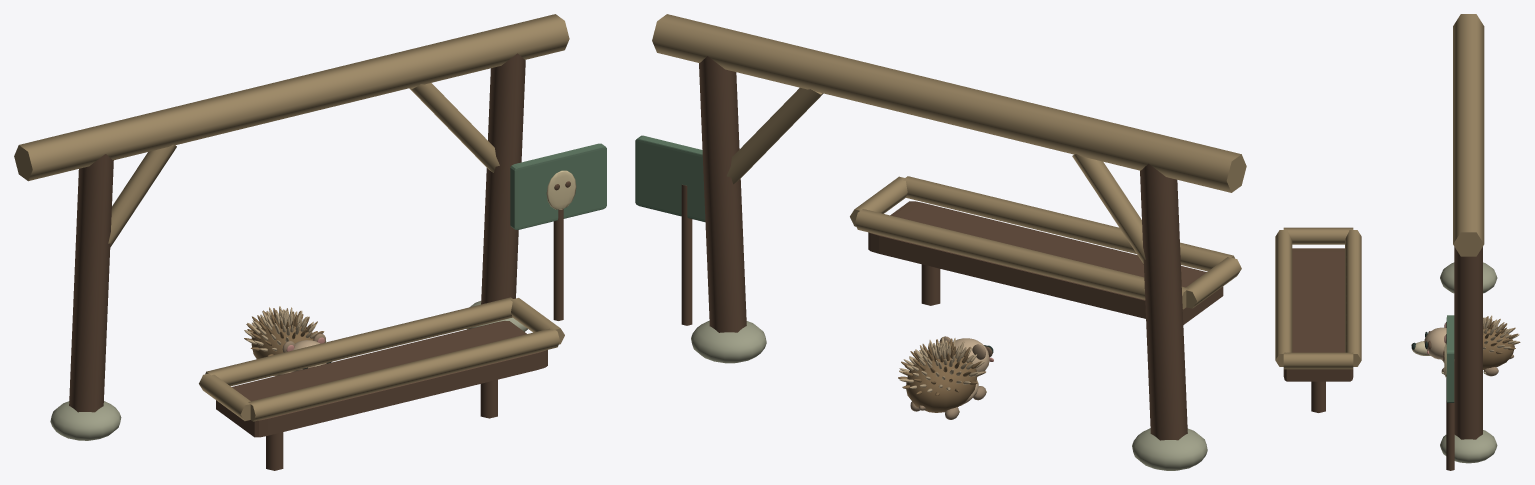
File: farm-props.glb
3 renders of one model, left to right at view 1: azimuth 30°, elevation 25°; view 2: azimuth 150°, elevation 25°; view 3: azimuth 270°, elevation 25°, orthographic. The views are drawn at different scales.
Visible parts, largest first — view 1: OwlFeedingPerch-painted-coat, HedgehogBody-painted-coat; view 2: OwlFeedingPerch-painted-coat, HedgehogBody-painted-coat, HedgehogHead-painted-coat; view 3: OwlFeedingPerch-painted-coat, HedgehogBody-painted-coat, HedgehogHead-painted-coat.
Boxes of the visible parts, bbox=[...] form: OwlFeedingPerch-painted-coat: bbox=[14, 14, 606, 470]; HedgehogBody-painted-coat: bbox=[244, 306, 326, 376]; OwlFeedingPerch-painted-coat: bbox=[635, 14, 1246, 470]; HedgehogBody-painted-coat: bbox=[898, 337, 985, 412]; HedgehogHead-painted-coat: bbox=[939, 336, 993, 376]; OwlFeedingPerch-painted-coat: bbox=[1275, 14, 1497, 470]; HedgehogBody-painted-coat: bbox=[1442, 315, 1520, 369]; HedgehogHead-painted-coat: bbox=[1411, 322, 1446, 359].
Bounding box in the file's own units: 4.57 × 2.31 × 2.04.
